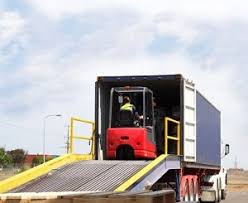Pallet Jack: (106, 85, 160, 163)
Yard Ramp: (1, 151, 180, 203)
